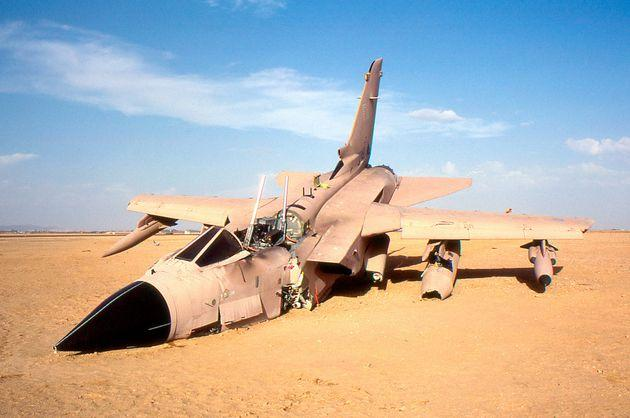Tornado: (52, 56, 597, 352)
